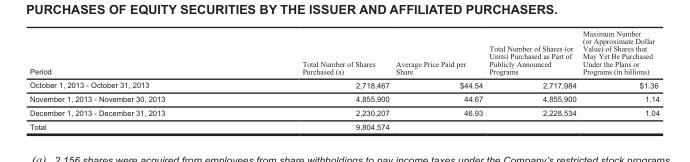table: (28, 28, 658, 130)
table column: (28, 28, 233, 130), (233, 28, 391, 130), (391, 28, 485, 130), (485, 28, 578, 130), (578, 28, 658, 130)
table column header: (28, 28, 658, 77)
table row: (28, 28, 658, 77), (28, 77, 658, 91), (28, 91, 658, 105), (28, 105, 658, 119), (28, 119, 658, 130)
